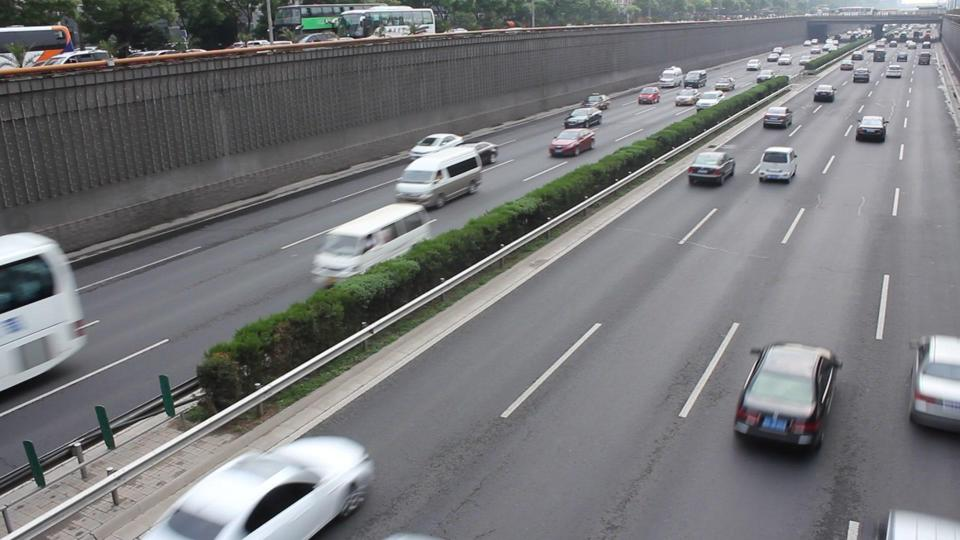bus: (1, 232, 95, 393), (269, 3, 410, 43), (336, 6, 440, 39)
car: (143, 435, 377, 540), (733, 341, 839, 452), (908, 335, 960, 433), (750, 146, 800, 183), (687, 150, 737, 186), (548, 129, 597, 158), (409, 133, 465, 158), (32, 49, 113, 66), (564, 107, 604, 129), (856, 116, 888, 143), (763, 106, 793, 129), (583, 91, 610, 112), (695, 91, 725, 109), (673, 88, 701, 106), (637, 86, 662, 104), (813, 84, 836, 103), (712, 77, 736, 92), (0, 53, 18, 69), (885, 64, 902, 79), (769, 53, 792, 64), (854, 69, 871, 83), (746, 59, 762, 71), (917, 52, 932, 64), (776, 56, 793, 65), (840, 61, 853, 71)
truck: (393, 141, 498, 210), (1, 24, 77, 63), (657, 65, 685, 88), (683, 70, 708, 88)
